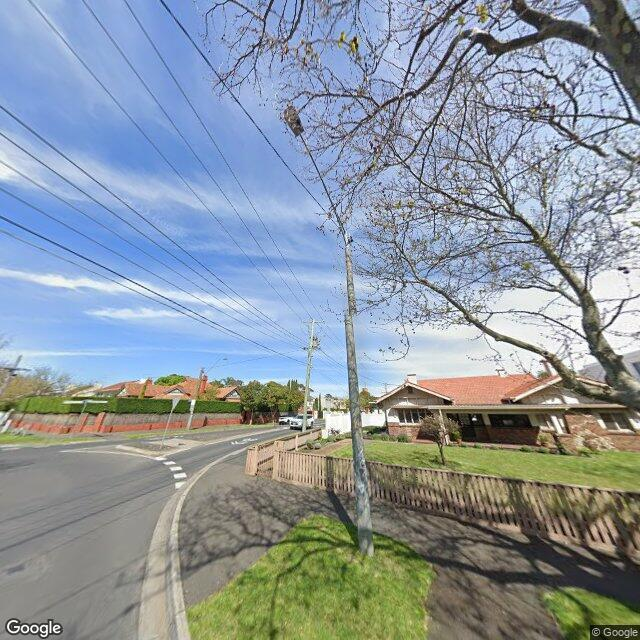crossarm: (303, 319, 325, 325)
streetlight: (283, 105, 346, 237), (201, 358, 228, 377)
timber-pole: (344, 233, 374, 558), (301, 318, 315, 431), (188, 366, 205, 430)
